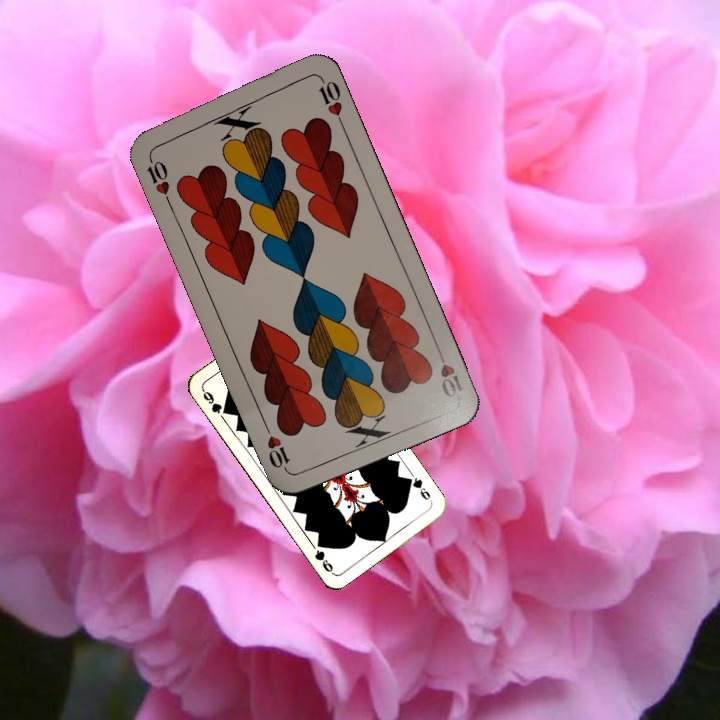G9: (402, 473, 435, 505), (198, 386, 232, 417)
H10: (432, 343, 467, 401), (143, 150, 174, 207)
